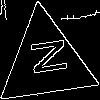N: (21, 36, 68, 78)
